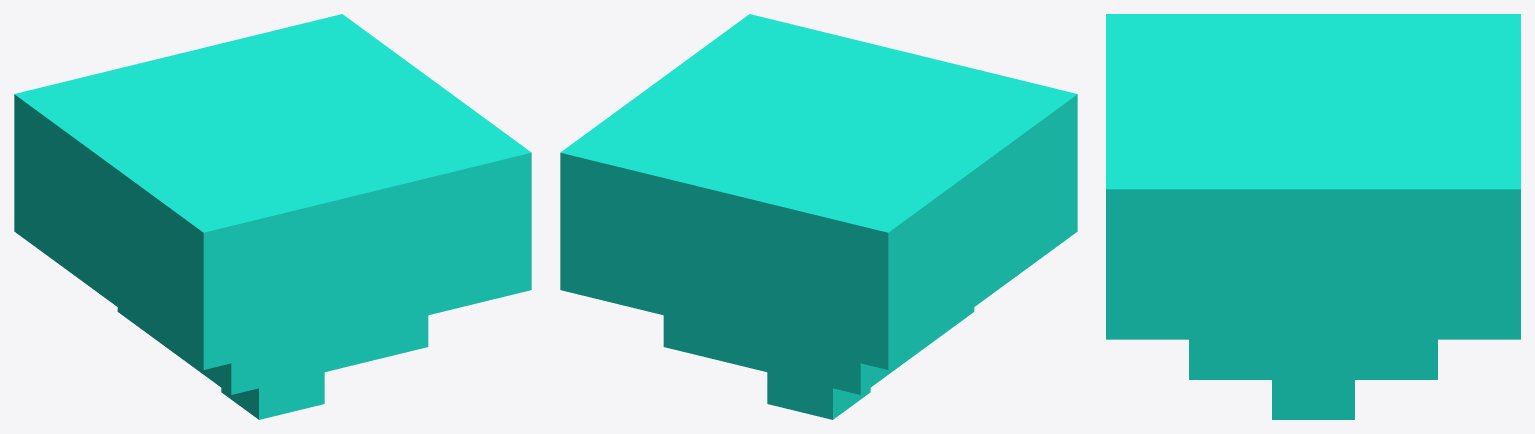
3 renders of one model, left to right at view 1: azimuth 30°, elevation 25°; view 2: azimuth 150°, elevation 25°; view 3: azimuth 270°, elevation 25°, orthographic. The views are drawn at different scales.
Visible parts, largest first — view 1: 51.1; view 2: 51.1; view 3: 51.1.
Part boxes in pixels (<box>): 51.1: <box>14,14,531,419</box>; 51.1: <box>560,14,1077,419</box>; 51.1: <box>1106,14,1520,419</box>.
Bounding box in the file's own units: 50 × 40 × 50.
1 material, 1 textured.
